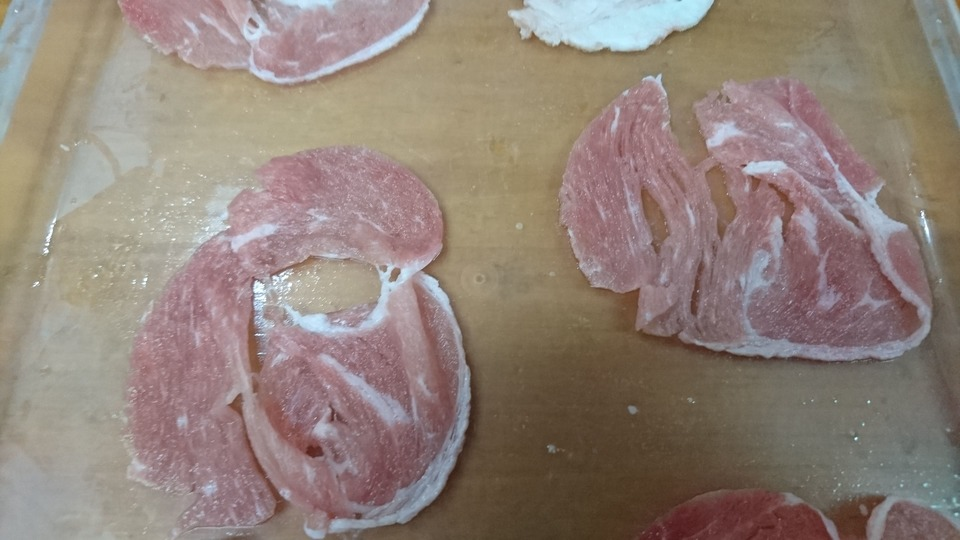restructured meat: (107, 143, 486, 530), (561, 63, 960, 365), (123, 4, 432, 86), (622, 482, 954, 539), (509, 1, 716, 56)
